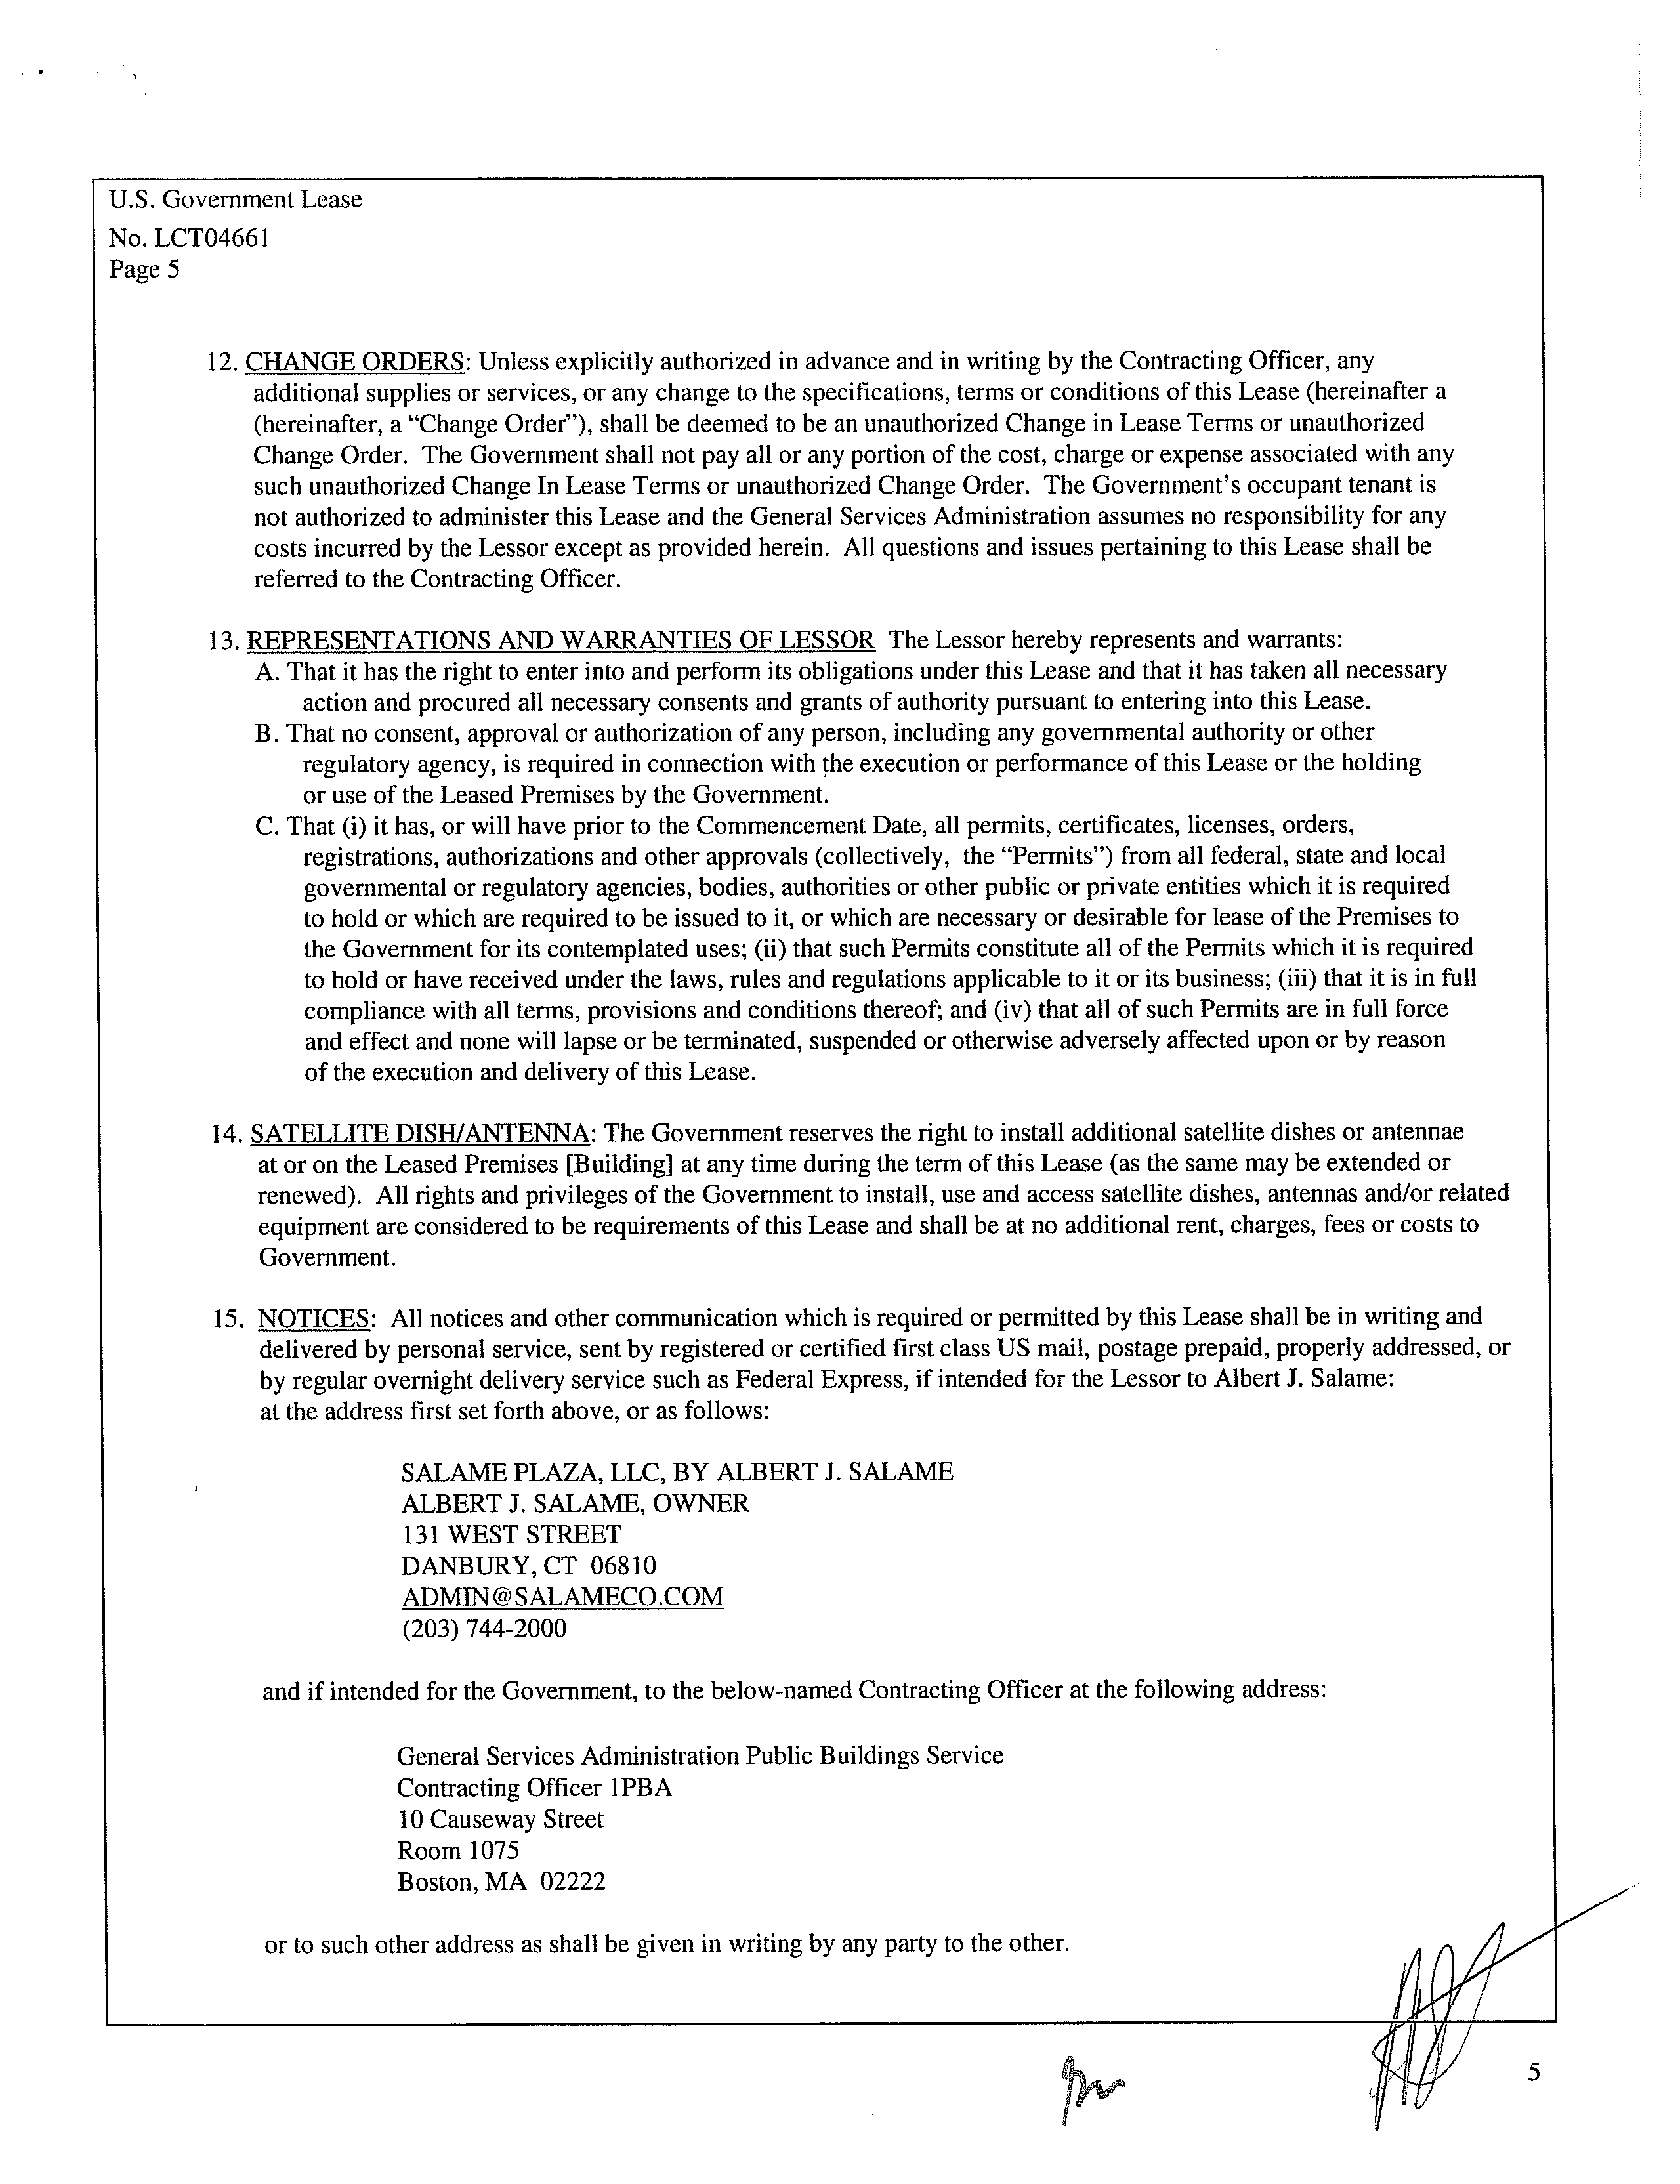handwritten: (1338, 1879, 1666, 2140), (1031, 2038, 1165, 2161)
